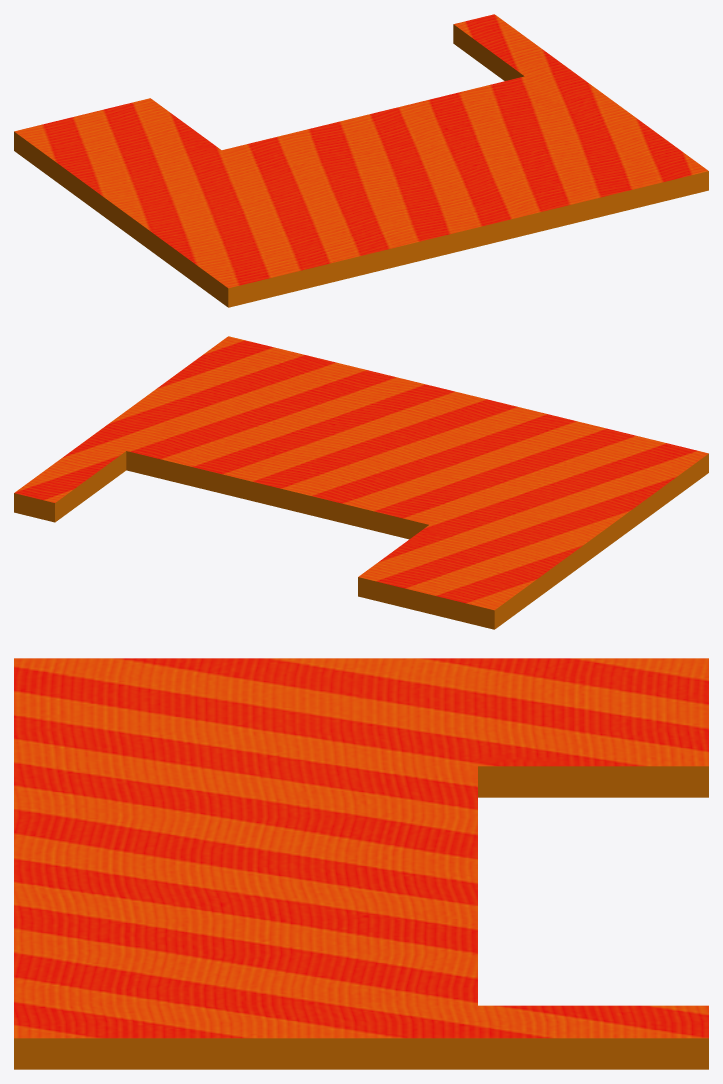
Rendered from BasementEntrance_Enhanced.fbx.
The picture shows the model from 3 angles, top to bottom: view 1: azimuth 30°, elevation 25°; view 2: azimuth 150°, elevation 25°; view 3: azimuth 270°, elevation 25°; orthographic projection. The views are drawn at different scales.
Parts seen in each view (by area): view 1: BasementEntrance; view 2: BasementEntrance; view 3: BasementEntrance.
Boxes of the visible parts, box(x1,y1,x2,y2) form: BasementEntrance: box(14, 14, 708, 307); BasementEntrance: box(14, 336, 708, 629); BasementEntrance: box(14, 658, 708, 1069).
Bounding box in the file's own units: 510 × 19.69 × 394.
